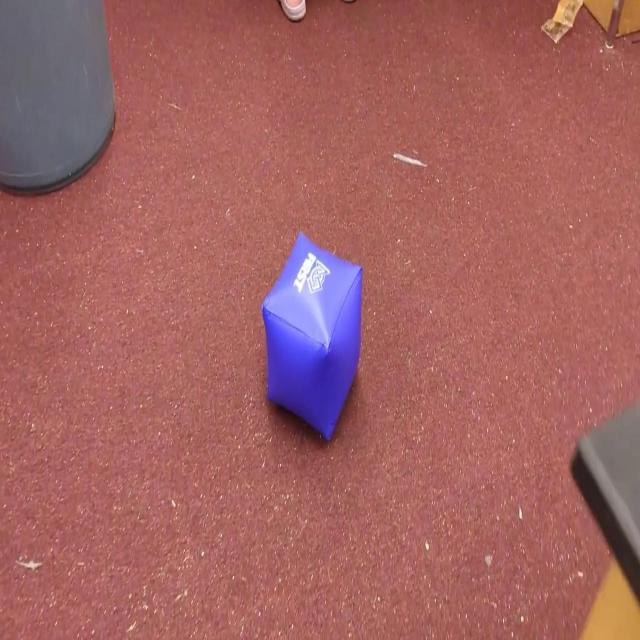frc_cube: (263, 233, 365, 446)
